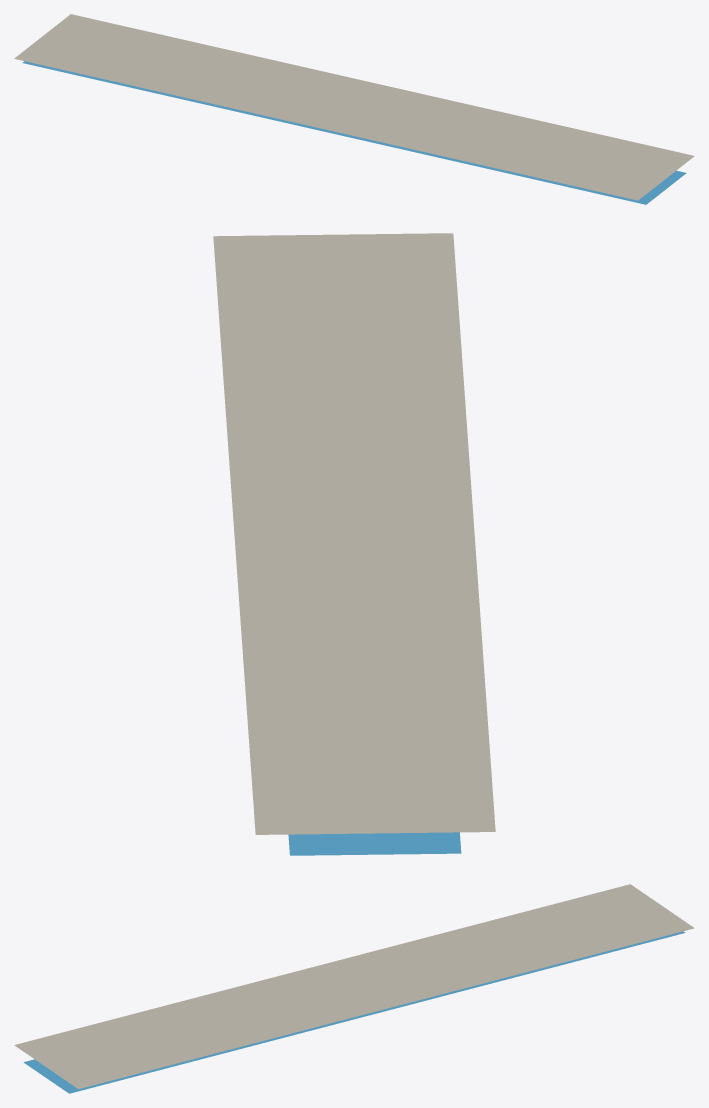
The picture shows the model from 3 angles, top to bottom: view 1: azimuth 30°, elevation 25°; view 2: azimuth 150°, elevation 25°; view 3: azimuth 270°, elevation 25°; orthographic projection. The views are drawn at different scales.
Visible parts, largest first — view 1: estructura_terreno, estructura_agua; view 2: estructura_terreno, estructura_agua; view 3: estructura_terreno, estructura_agua.
Part boxes in pixels (<box>): estructura_terreno: <box>14,14,694,200</box>; estructura_agua: <box>22,61,686,204</box>; estructura_terreno: <box>213,233,495,834</box>; estructura_agua: <box>288,832,461,855</box>; estructura_terreno: <box>14,884,694,1089</box>; estructura_agua: <box>23,931,685,1093</box>.
Size of the model in its own units: 16.6 by 0.41 by 23.3.
